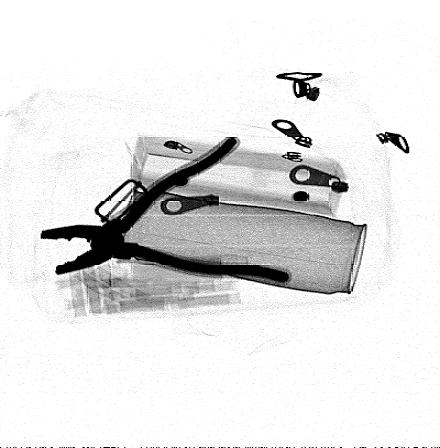Pliers: (38, 137, 291, 284)
